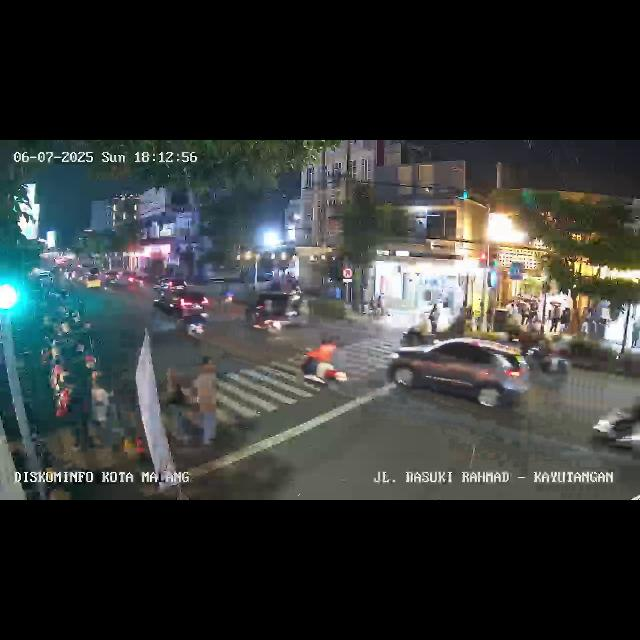car: (389, 338, 528, 414), (153, 284, 210, 320), (85, 273, 103, 291)
motorcycle: (590, 397, 640, 467), (297, 334, 349, 398), (526, 335, 570, 381), (248, 294, 288, 340), (176, 302, 208, 344), (401, 312, 434, 346)
person: (162, 366, 194, 446), (196, 362, 220, 454), (548, 302, 560, 334), (560, 306, 570, 336), (428, 304, 438, 332), (631, 319, 640, 346), (582, 315, 590, 341)
